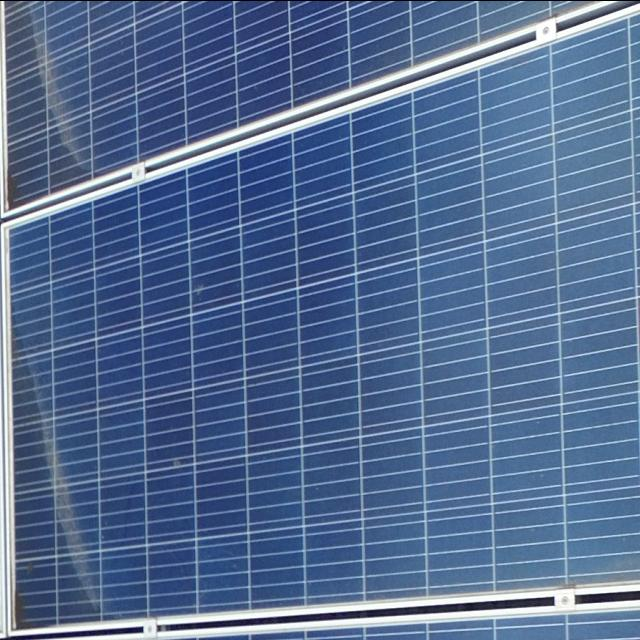Dust: (0, 295, 123, 640), (0, 0, 76, 236)
